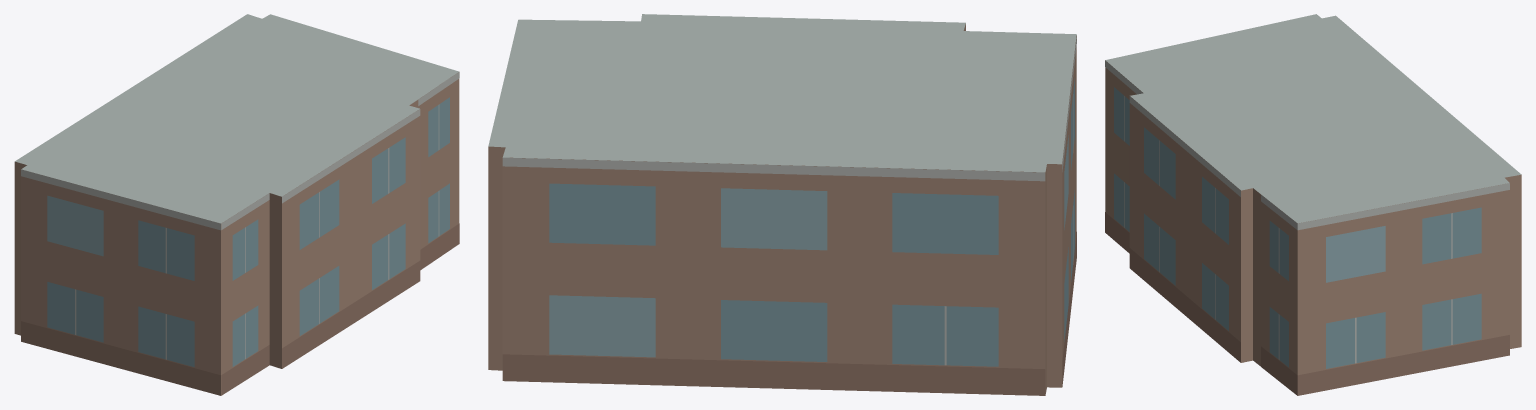
File: survey-upis-32954519.glb
3 renders of one model, left to right at view 1: azimuth 30°, elevation 25°; view 2: azimuth 150°, elevation 25°; view 3: azimuth 270°, elevation 25°, orthographic. The views are drawn at different scales.
Parts seen in each view (by area): view 1: survey-upis-32954519.tmp; view 2: survey-upis-32954519.tmp; view 3: survey-upis-32954519.tmp.
Boxes of the visible parts, <box> form: survey-upis-32954519.tmp: <box>14,14,459,395</box>; survey-upis-32954519.tmp: <box>488,14,1076,395</box>; survey-upis-32954519.tmp: <box>1105,14,1521,395</box>.
Bounding box in the file's own units: 15.9 × 6.1 × 13.37.
